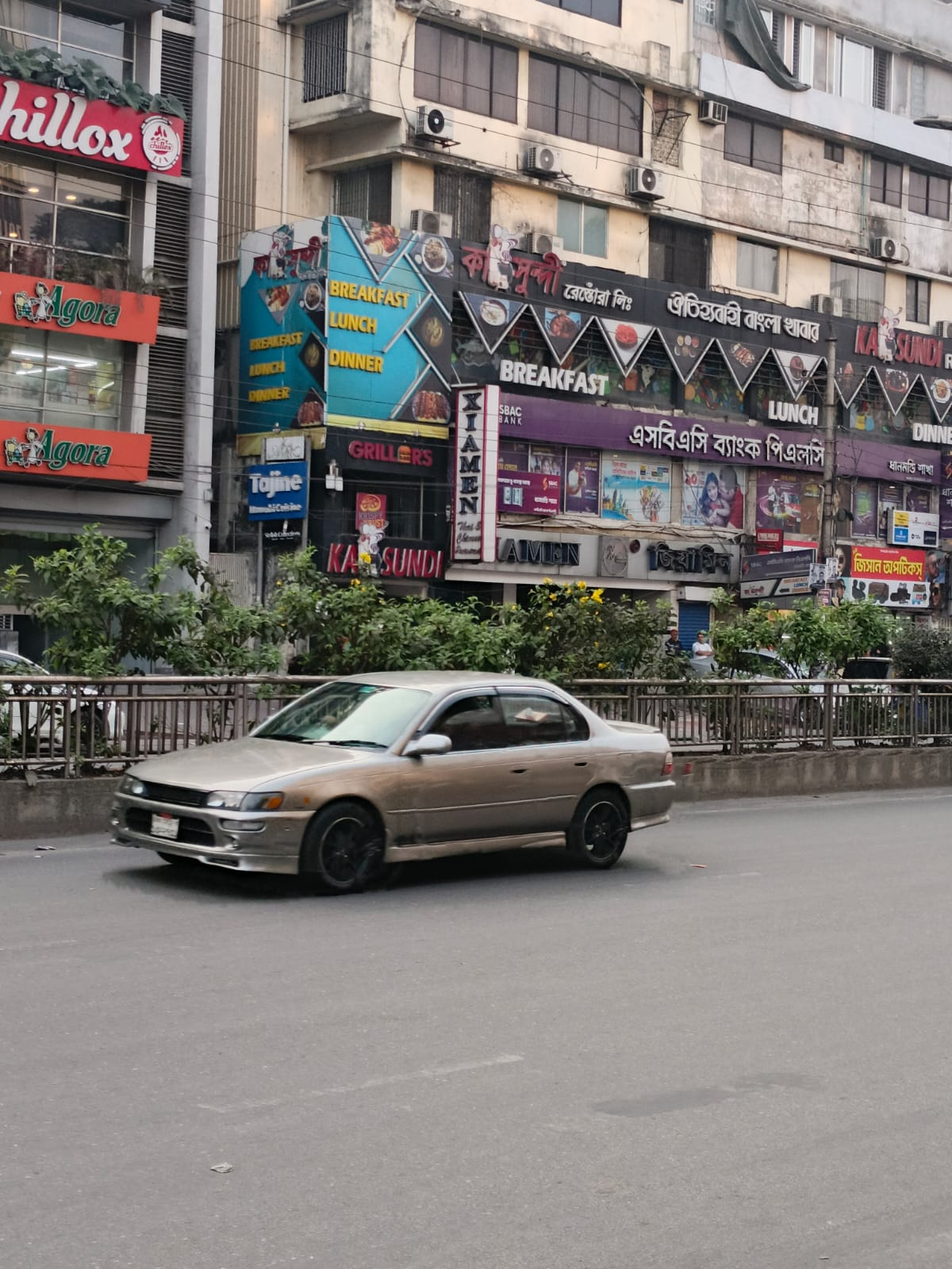private car: (114, 661, 762, 965), (725, 606, 952, 779), (3, 638, 144, 817)
